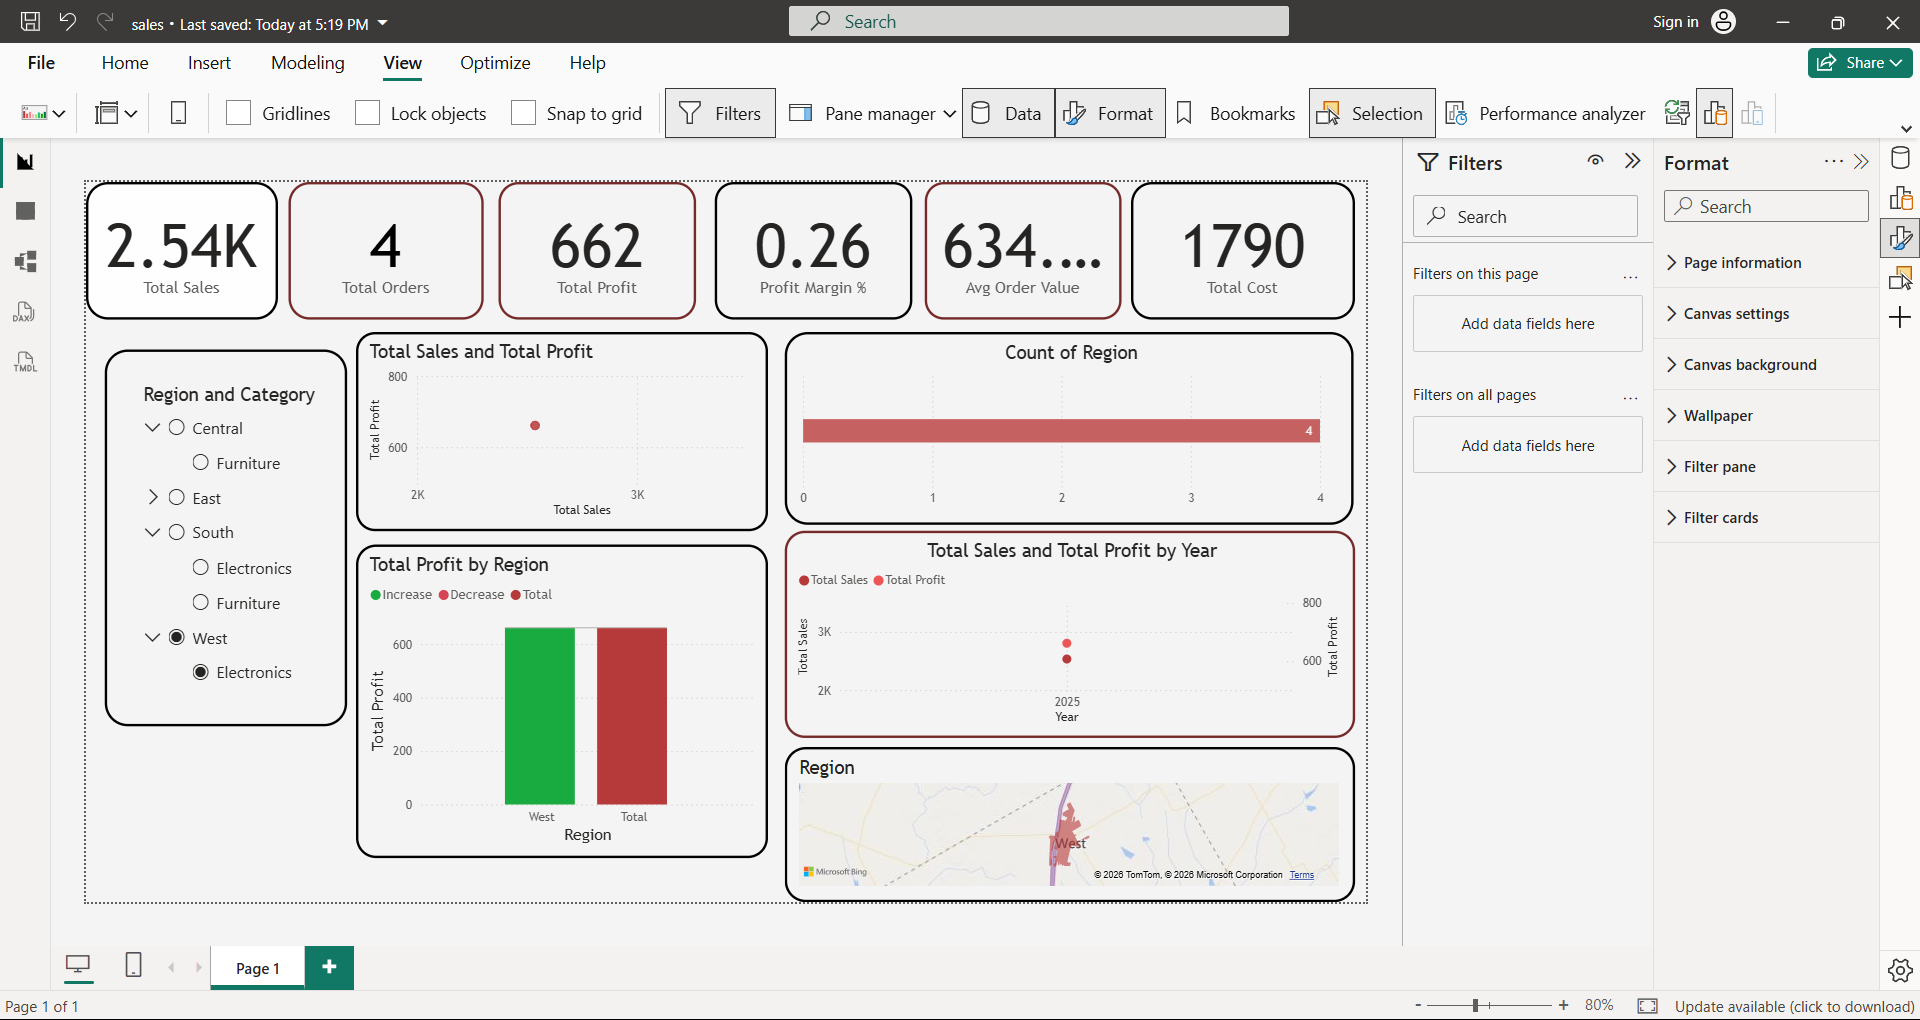

Layout of this report page (visuals, bound fields, positions):
{"tool":"powerbi","page":{"name":"Page 1","canvas":[1280,720],"ordinal":0},"visuals":[{"type":"card","fields":{"Values":["Sheet1.Total Sales"]},"box":[0,0,191.9,137.4],"z":0},{"type":"card","fields":{"Values":["Sheet1.Total Profit"]},"box":[412.1,0,197.8,137.4],"z":1000},{"type":"card","fields":{"Values":["Sheet1.Total Orders"]},"box":[202.5,0,195.4,137.4],"z":2000},{"type":"card","fields":{"Values":["Sheet1.Avg Order Value"]},"box":[838.5,0,196.6,137.4],"z":3000},{"type":"card","fields":{"Values":["Sheet1.Profit Margin %"]},"box":[628.9,0,197.8,137.4],"z":4000},{"type":"card","fields":{"Values":["Sheet1.Total Cost"]},"box":[1044.6,0,223.8,137.4],"z":5000},{"type":"lineChart","fields":{"Category":["Sheet1.OrderDate.Variation.Date Hierarchy.Year","Sheet1.OrderDate.Variation.Date Hierarchy.Quarter","Sheet1.OrderDate.Variation.Date Hierarchy.Month","Sheet1.OrderDate.Variation.Date Hierarchy.Day"],"Y":["Sheet1.Total Sales"],"Y2":["Sheet1.Total Profit"]},"box":[698.8,348.8,570,207.5],"z":5001},{"type":"clusteredBarChart","fields":{"Y":["CountNonNull(Sheet1.Region)"]},"box":[698.8,150,568.8,192.5],"z":5002},{"type":"textbox","box":[18.9,167.8,242.2,376.7],"z":5003},{"type":"scatterChart","fields":{"X":["Sheet1.Total Sales"],"Y":["Sheet1.Total Profit"]},"box":[270,150,412.2,198.9],"z":5004},{"type":"listSlicer","fields":{"Values":["Sheet1.Region","Sheet1.Category"]},"box":[52.2,201.1,188.9,317.8],"z":5005},{"type":"waterfallChart","fields":{"Category":["Sheet1.Region"],"Y":["Sheet1.Total Profit"]},"box":[270,362.2,412.2,313.3],"z":5006},{"type":"filledMap","fields":{"Category":["Sheet1.Region","Sheet1.OrderID","Sheet1.Quantity"]},"box":[698.8,565,570,155],"z":5007}]}

Visuals, with their boxes on the page's 1280x720 design canvas (x1, y1, x2, y2). These are canvas units, not pixel positions in the 1920x1020 screenshot, which may show the page scaled, cropped or inside an application window:
card - Sheet1.Total Sales: <bbox>0, 0, 192, 137</bbox>
card - Sheet1.Total Profit: <bbox>412, 0, 610, 137</bbox>
card - Sheet1.Total Orders: <bbox>202, 0, 398, 137</bbox>
card - Sheet1.Avg Order Value: <bbox>838, 0, 1035, 137</bbox>
card - Sheet1.Profit Margin %: <bbox>629, 0, 827, 137</bbox>
card - Sheet1.Total Cost: <bbox>1045, 0, 1268, 137</bbox>
lineChart - Sheet1.OrderDate.Variation.Date Hierarchy.Year x Sheet1.OrderDate.Variation.Date Hierarchy.Quarter: <bbox>699, 349, 1269, 556</bbox>
clusteredBarChart - CountNonNull(Sheet1.Region): <bbox>699, 150, 1268, 342</bbox>
textbox: <bbox>19, 168, 261, 544</bbox>
scatterChart - Sheet1.Total Sales x Sheet1.Total Profit: <bbox>270, 150, 682, 349</bbox>
listSlicer - Sheet1.Region x Sheet1.Category: <bbox>52, 201, 241, 519</bbox>
waterfallChart - Sheet1.Region x Sheet1.Total Profit: <bbox>270, 362, 682, 676</bbox>
filledMap - Sheet1.Region x Sheet1.OrderID: <bbox>699, 565, 1269, 720</bbox>
